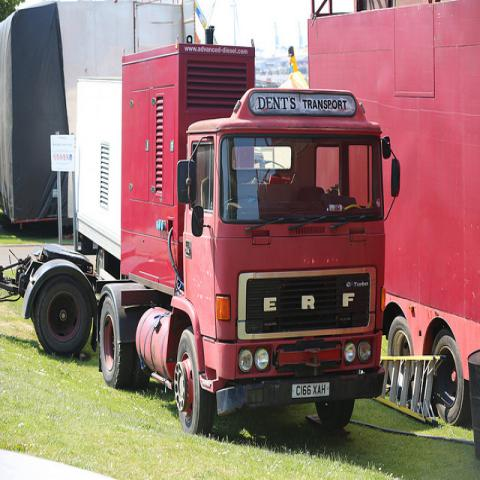truck: (1, 25, 400, 438), (307, 0, 479, 426), (0, 1, 197, 227)
